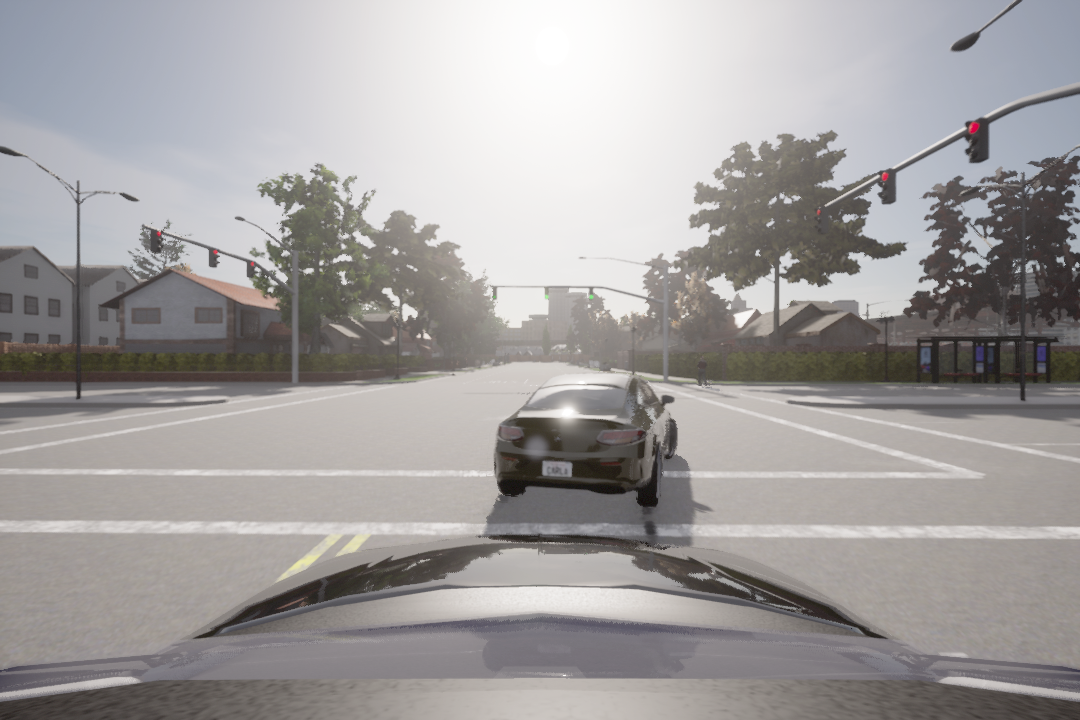TrafficLight: (962, 115, 993, 164), (877, 167, 898, 207), (814, 204, 829, 236), (147, 227, 162, 255), (244, 260, 259, 278), (207, 247, 218, 271), (489, 284, 500, 301), (543, 284, 551, 302), (587, 284, 594, 303)
